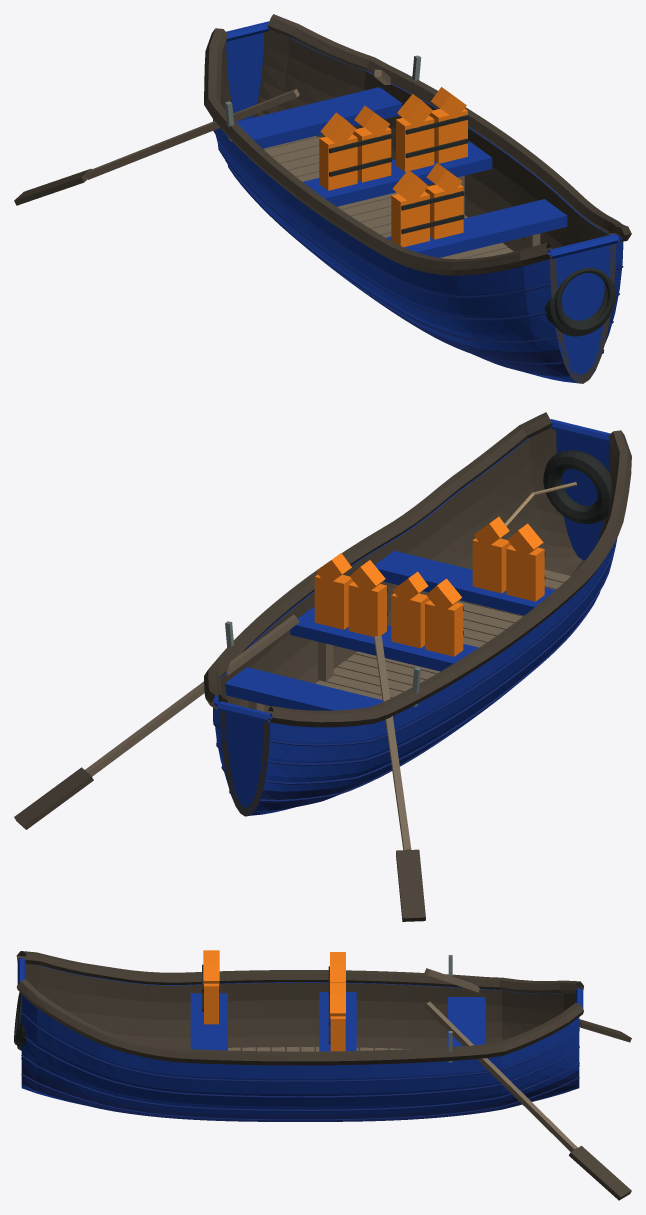
Rendered from blue-passenger-sampan.glb.
3 renders of one model, top to bottom at view 1: azimuth 30°, elevation 25°; view 2: azimuth 150°, elevation 25°; view 3: azimuth 270°, elevation 25°, orthographic. The views are drawn at different scales.
Visible parts, largest first — view 1: hull_planks__blue_dark, gunwale__wood_dark.002, hull_inner__wood_dark.002, bench_seats__blue_dark, life_jackets__orange, stem_transom__blue_dark, life_jacket_shoulders__orange, deck_boards__wood.002, plank_seams__navy, oars__wood, life_jacket_straps__rubber, hull_planks__navy (+5 smaller); view 2: hull_inner__wood_dark.002, hull_planks__blue_dark, gunwale__wood_dark.002, bench_seats__blue_dark, life_jackets__orange, stem_transom__blue_dark, deck_boards__wood.002, oars__wood, life_jacket_shoulders__orange, plank_seams__navy, oar_blades__wood_dark, tire_fenders__rubber.002 (+4 smaller); view 3: hull_planks__blue_dark, hull_inner__wood_dark.002, gunwale__wood_dark.002, plank_seams__navy, hull_planks__navy, bench_seats__blue_dark, oars__wood, life_jacket_shoulders__orange, oar_blades__wood_dark, life_jackets__orange, deck_boards__wood.002, gunwale__blue_dark.
Boxes of the visible parts, left/top/right/bottom form: hull_planks__blue_dark: left=213, top=119, right=623, bottom=383; gunwale__wood_dark.002: left=204, top=14, right=631, bottom=275; hull_inner__wood_dark.002: left=220, top=29, right=608, bottom=251; bench_seats__blue_dark: left=236, top=87, right=567, bottom=257; life_jackets__orange: left=319, top=108, right=467, bottom=247; stem_transom__blue_dark: left=226, top=32, right=615, bottom=382; life_jacket_shoulders__orange: left=320, top=87, right=466, bottom=203; deck_boards__wood.002: left=264, top=136, right=513, bottom=259; plank_seams__navy: left=213, top=120, right=623, bottom=364; oars__wood: left=85, top=69, right=390, bottom=179; life_jacket_straps__rubber: left=329, top=115, right=468, bottom=233; hull_planks__navy: left=383, top=304, right=608, bottom=376; hull_inner__wood_dark.002: left=220, top=428, right=615, bottom=712; hull_planks__blue_dark: left=213, top=542, right=614, bottom=815; gunwale__wood_dark.002: left=204, top=412, right=631, bottom=727; bench_seats__blue_dark: left=225, top=550, right=555, bottom=710; life_jackets__orange: left=314, top=538, right=544, bottom=656; stem_transom__blue_dark: left=220, top=430, right=609, bottom=816; deck_boards__wood.002: left=315, top=569, right=570, bottom=699; oars__wood: left=85, top=614, right=411, bottom=850; life_jacket_shoulders__orange: left=316, top=516, right=543, bottom=613; plank_seams__navy: left=213, top=537, right=617, bottom=801; oar_blades__wood_dark: left=14, top=767, right=425, bottom=921; tire_fenders__rubber.002: left=543, top=450, right=611, bottom=524; hull_planks__blue_dark: left=21, top=994, right=579, bottom=1115; hull_inner__wood_dark.002: left=25, top=964, right=575, bottom=1051; gunwale__wood_dark.002: left=16, top=951, right=583, bottom=1065; plank_seams__navy: left=21, top=1012, right=579, bottom=1120; hull_planks__navy: left=21, top=1064, right=579, bottom=1121; bench_seats__blue_dark: left=190, top=992, right=485, bottom=1051; oars__wood: left=424, top=968, right=577, bottom=1151; life_jacket_shoulders__orange: left=203, top=950, right=345, bottom=1018; oar_blades__wood_dark: left=569, top=1019, right=631, bottom=1200; life_jackets__orange: left=204, top=983, right=345, bottom=1051; deck_boards__wood.002: left=228, top=1047, right=410, bottom=1051; gunwale__blue_dark: left=31, top=964, right=567, bottom=993.
Size of the model in its own units: 3.66 by 1.57 by 5.76.
